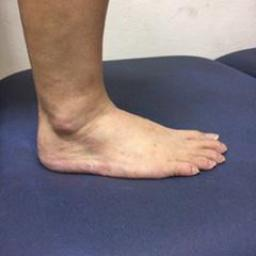Lateral View -Right Foot-: (28, 80, 234, 195)
